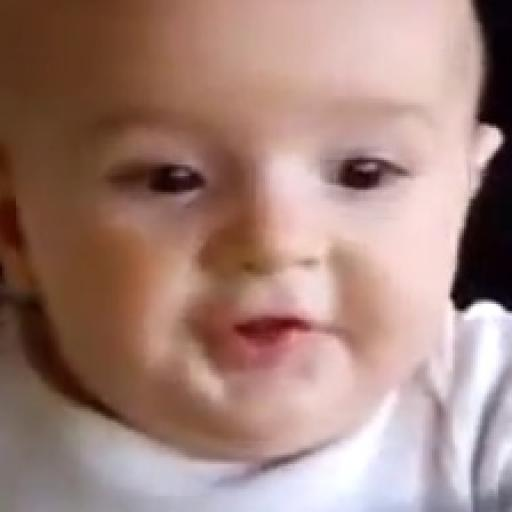Autism: (33, 21, 512, 505)
